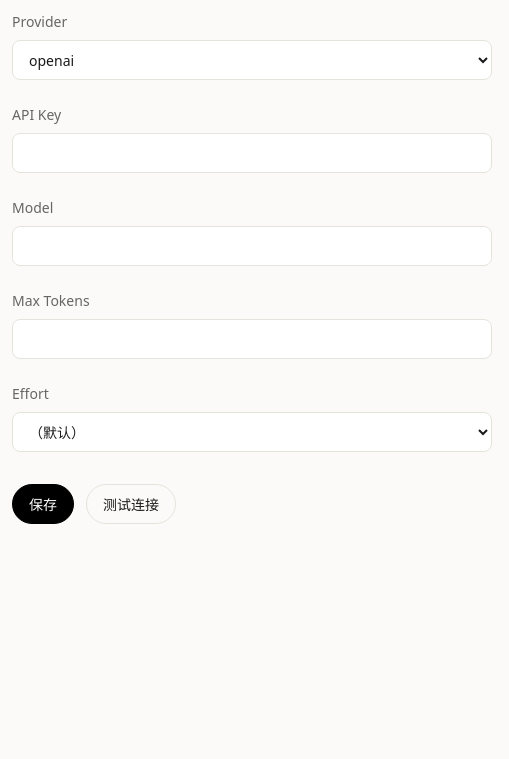
Scenario: ProviderForm 测试连接 › 成功时显示 ✓
Click the button "测试连接" at (131, 504), box [86, 484, 176, 524]
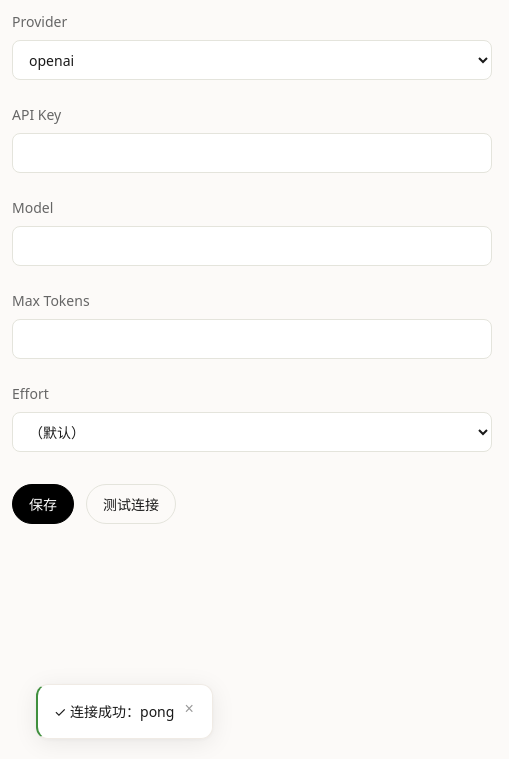
Expected: the text "✓ 连接成功：pong" is shown, [54, 701, 174, 722]
